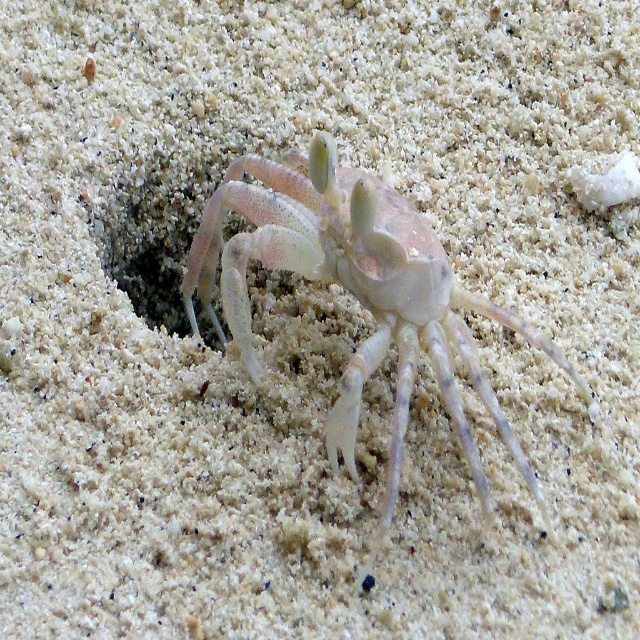Crab: (176, 134, 606, 546)
